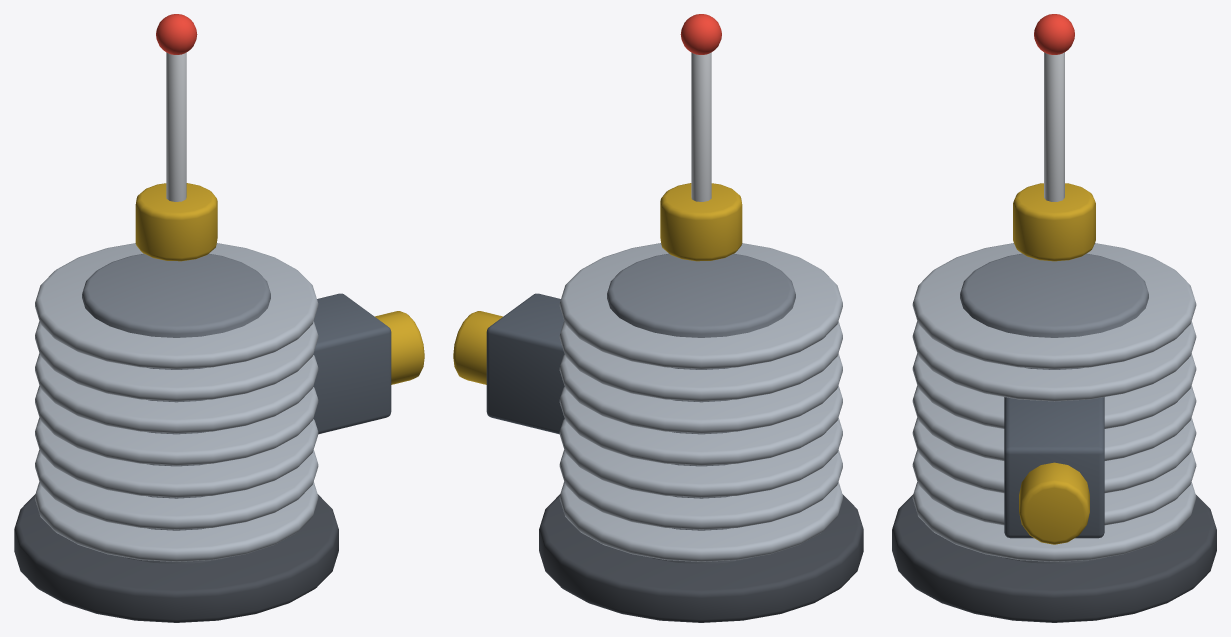
The model's file is magnetron.glb.
3 views of the same model, side by side, from view 1: azimuth 30°, elevation 25°; view 2: azimuth 150°, elevation 25°; view 3: azimuth 270°, elevation 25° (orthographic).
Visible parts, largest first — view 1: magnetron; view 2: magnetron; view 3: magnetron.
Part boxes in pixels (x1,y1,x2,y2): magnetron: [14, 14, 424, 622]; magnetron: [453, 14, 863, 622]; magnetron: [892, 14, 1216, 622].
Bounding box in the file's own units: 1.46 × 2.02 × 1.1.
